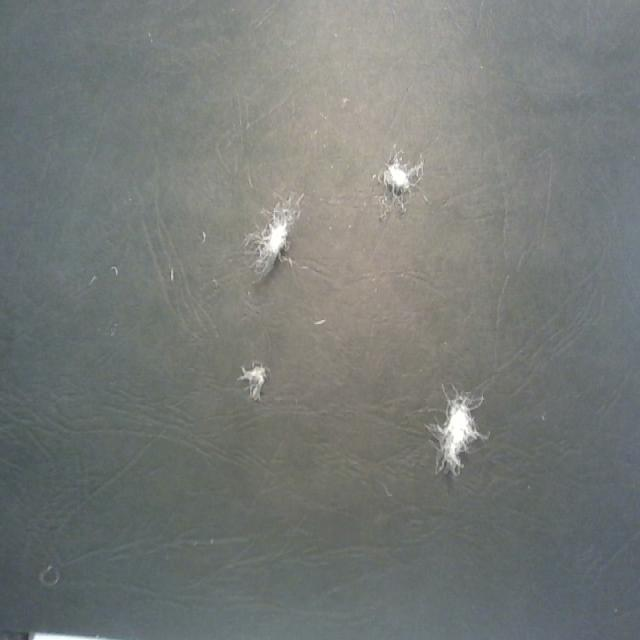feather: (425, 389, 492, 480), (249, 197, 289, 275), (379, 158, 424, 214), (238, 363, 266, 400)
